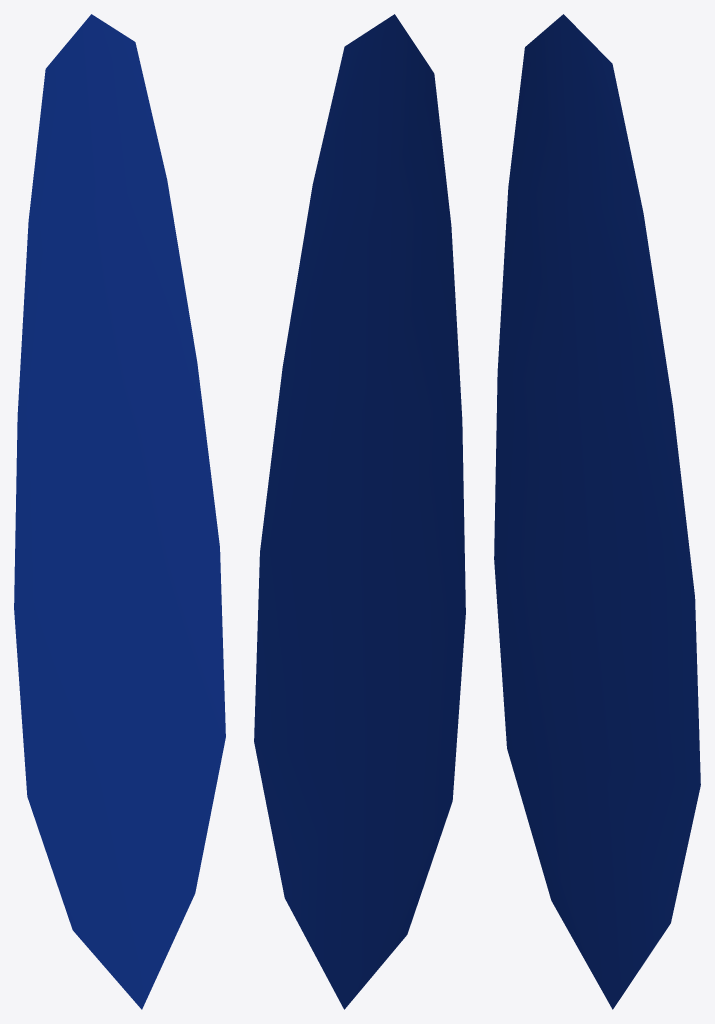
Rendered from ara_feather_flight_primary_006.obj.
The picture shows the model from 3 angles, left to right: view 1: azimuth 30°, elevation 25°; view 2: azimuth 150°, elevation 25°; view 3: azimuth 330°, elevation 25°; orthographic projection. The views are drawn at different scales.
Parts seen in each view (by area): view 1: feather_flight_primary_006; view 2: feather_flight_primary_006; view 3: feather_flight_primary_006.
Part boxes in pixels (x1=…): feather_flight_primary_006: x1=14, y1=14, x2=225, y2=1009; feather_flight_primary_006: x1=254, y1=14, x2=465, y2=1009; feather_flight_primary_006: x1=494, y1=14, x2=700, y2=1009.
Size of the model in its own units: 0.0282 by 0.1282 by 0.000725.
